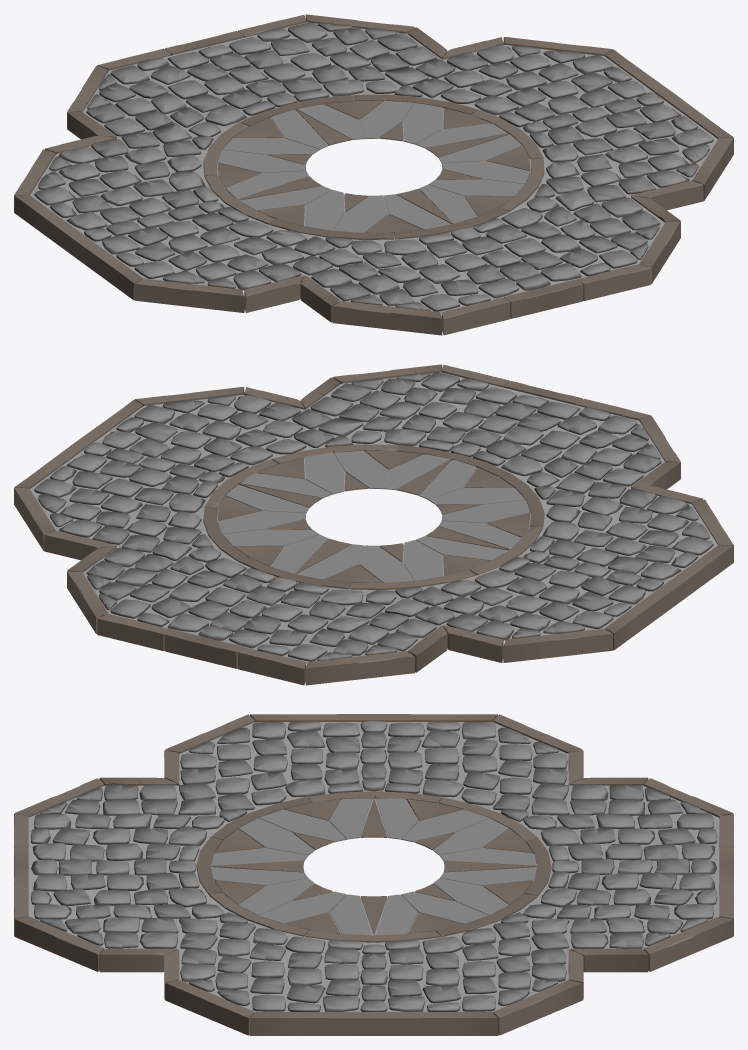
Rendered from obj_squard 1.fbx.
The picture shows the model from 3 angles, top to bottom: view 1: azimuth 30°, elevation 25°; view 2: azimuth 150°, elevation 25°; view 3: azimuth 270°, elevation 25°; orthographic projection. The views are drawn at different scales.
Visible parts, largest first — view 1: Circle.004; view 2: Circle.004; view 3: Circle.004.
Part boxes in pixels (<box>): Circle.004: <box>14,14,733,335</box>; Circle.004: <box>14,364,733,685</box>; Circle.004: <box>14,714,733,1035</box>.
Bounding box in the file's own units: 1019 × 29.22 × 1019.
